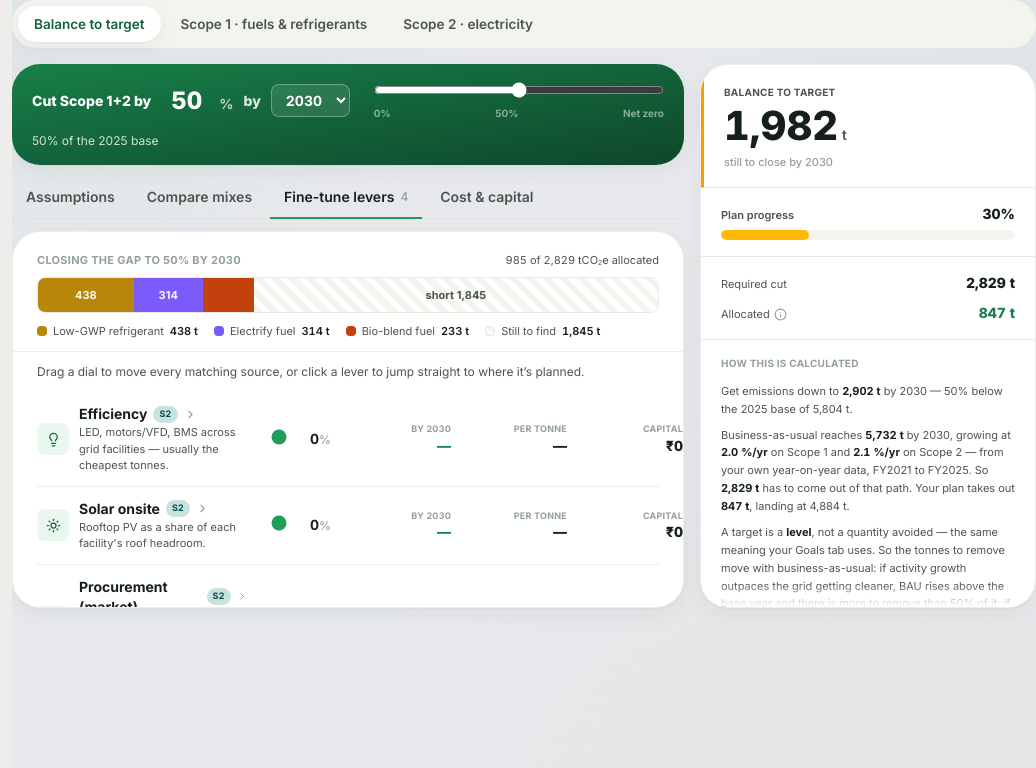
Test case: Assumptions cards › summarises the growth premise in the card header, naming its provenance
Click the tab "Assumptions": (70, 198) [12, 177, 129, 219]
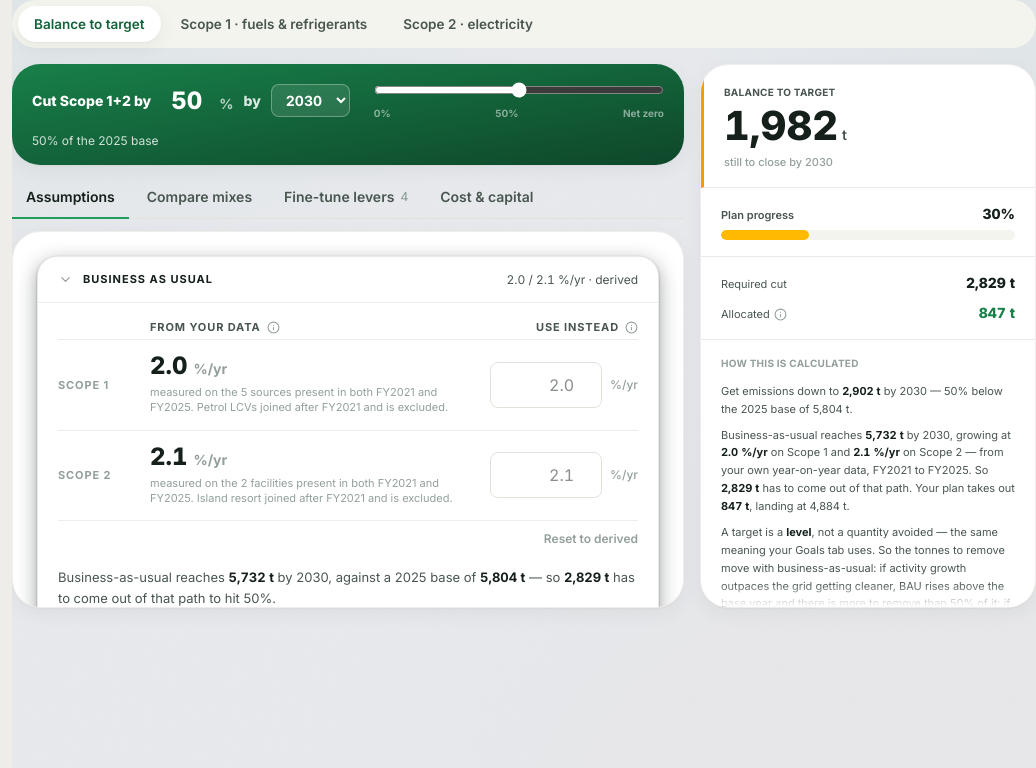
Now the button "Business as usual 2.0 / 2.1 %/yr · derived" is shown, box [38, 257, 658, 302]
In the number field named "Scope 1 BAU growth override": (546, 385) [490, 362, 602, 408], type "7.3"
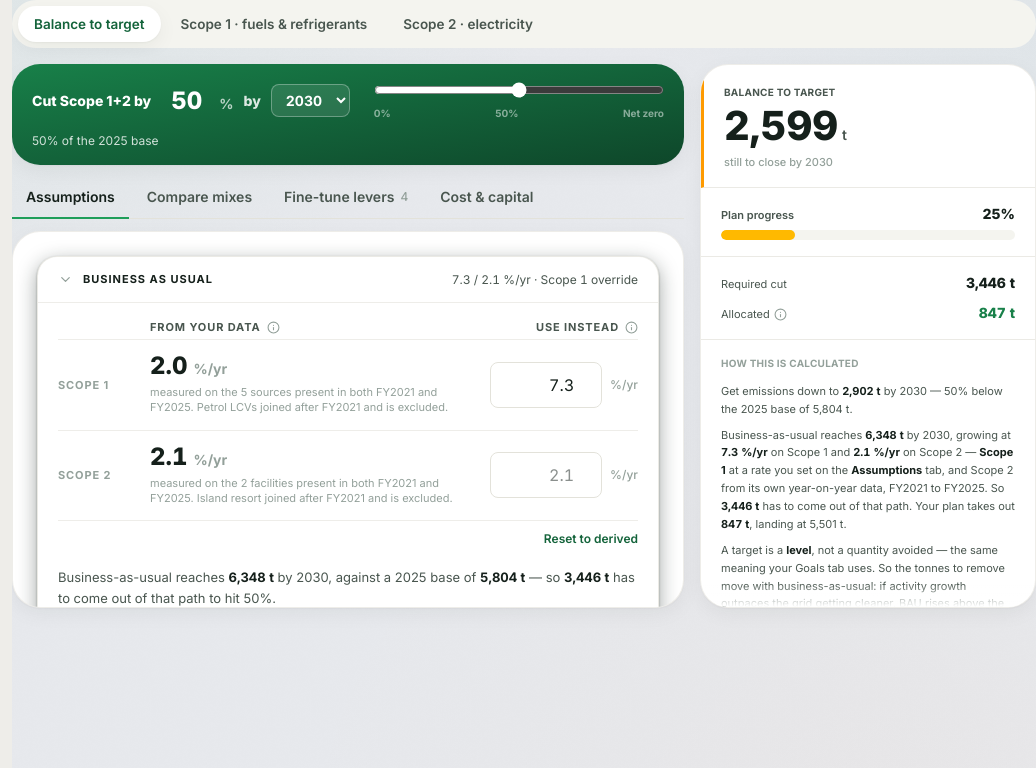
In the number field named "Scope 2 BAU growth override": (546, 475) [490, 452, 602, 498], type "7.3"
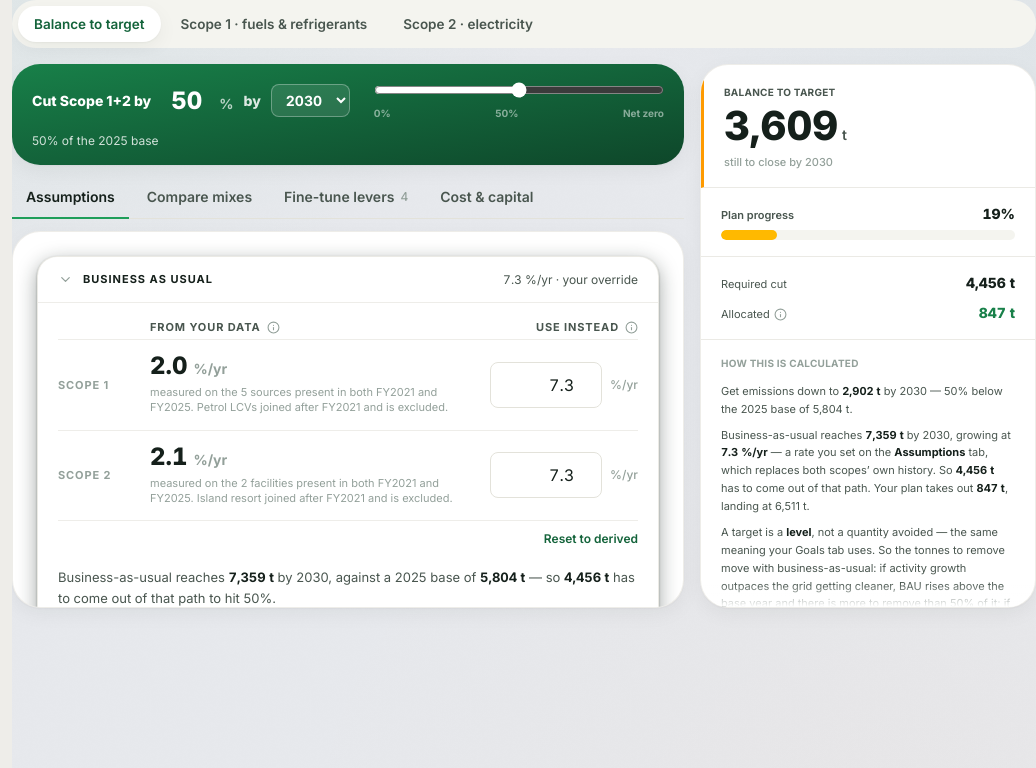
Expected: the button "Business as usual" does not show "derived"
Now the button "Business as usual 7.3 %/yr · your override" is shown, box [38, 257, 658, 302]
